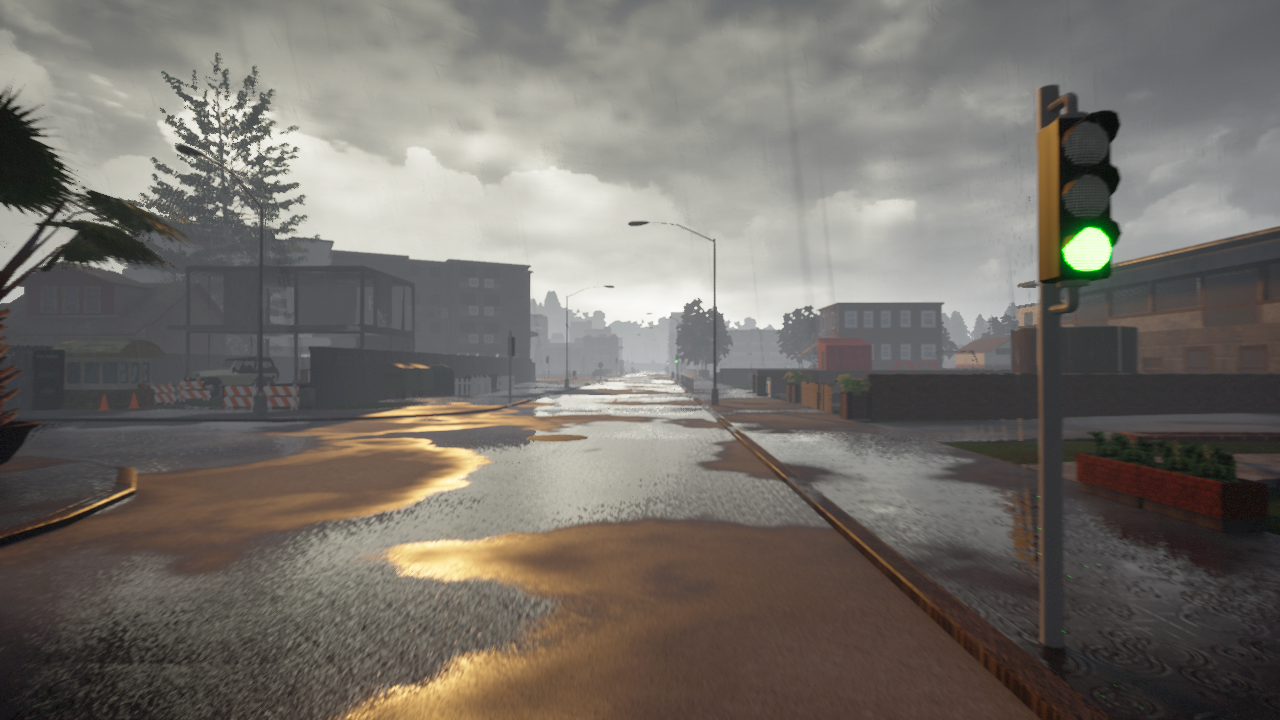green: (1038, 103, 1127, 290)
